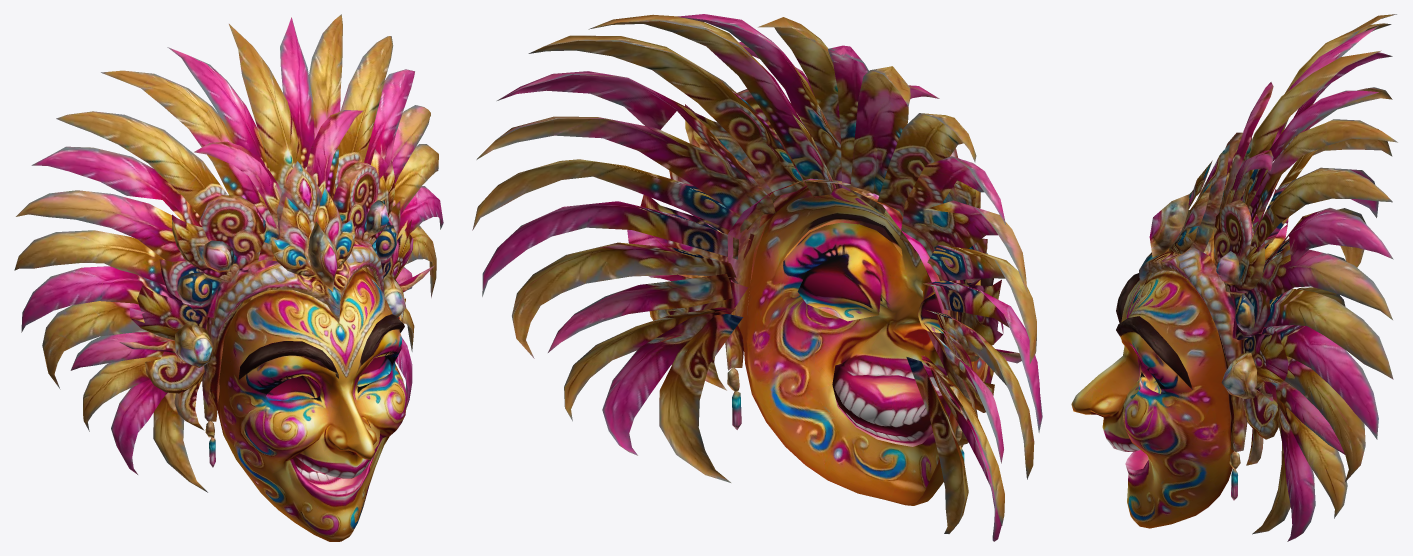
The model's file is masskara-gold.glb.
3 views of the same model, side by side, from view 1: azimuth 30°, elevation 25°; view 2: azimuth 150°, elevation 25°; view 3: azimuth 270°, elevation 25° (orthographic). The views are drawn at different scales.
Parts seen in each view (by area): view 1: geometry_0; view 2: geometry_0; view 3: geometry_0.
Boxes of the visible parts, x1,y1,x2,y2 form: geometry_0: [14, 14, 443, 541]; geometry_0: [472, 14, 1042, 541]; geometry_0: [1071, 14, 1397, 541].
Size of the model in its own units: 1 by 0.9979 by 0.6231.
Materials: 1 (1 with a texture image).
